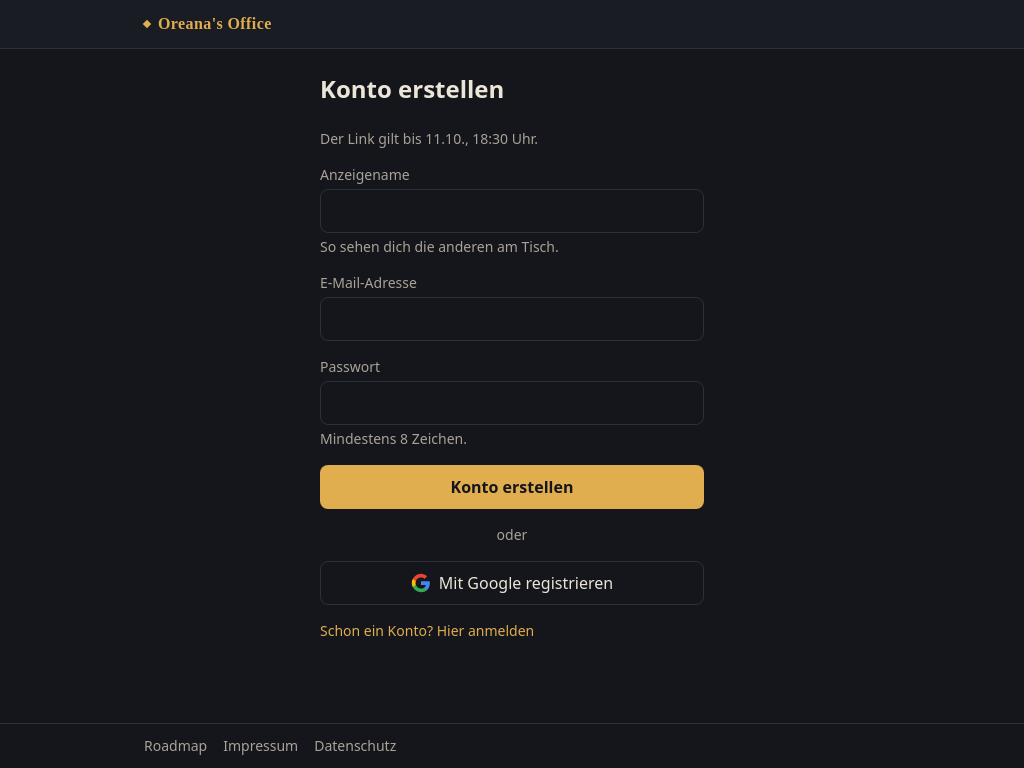
Test: InvitePage › shows the server error when the link expires while filling in
The image size is (1024, 768).
Type "Mira" into the field labelled "Anzeigename". click: point(512, 211)
box: 320,189 -> 704,233
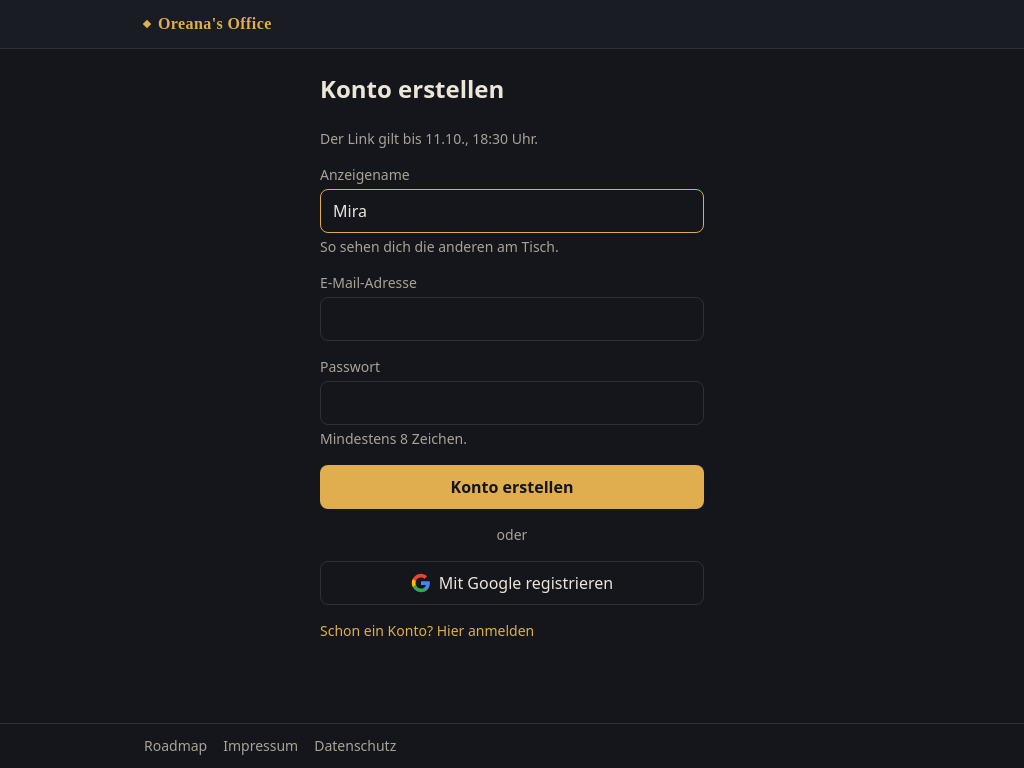
Type "mira@example.org" into the field labelled "E-Mail-Adresse". click: point(512, 319)
box: 320,297 -> 704,341
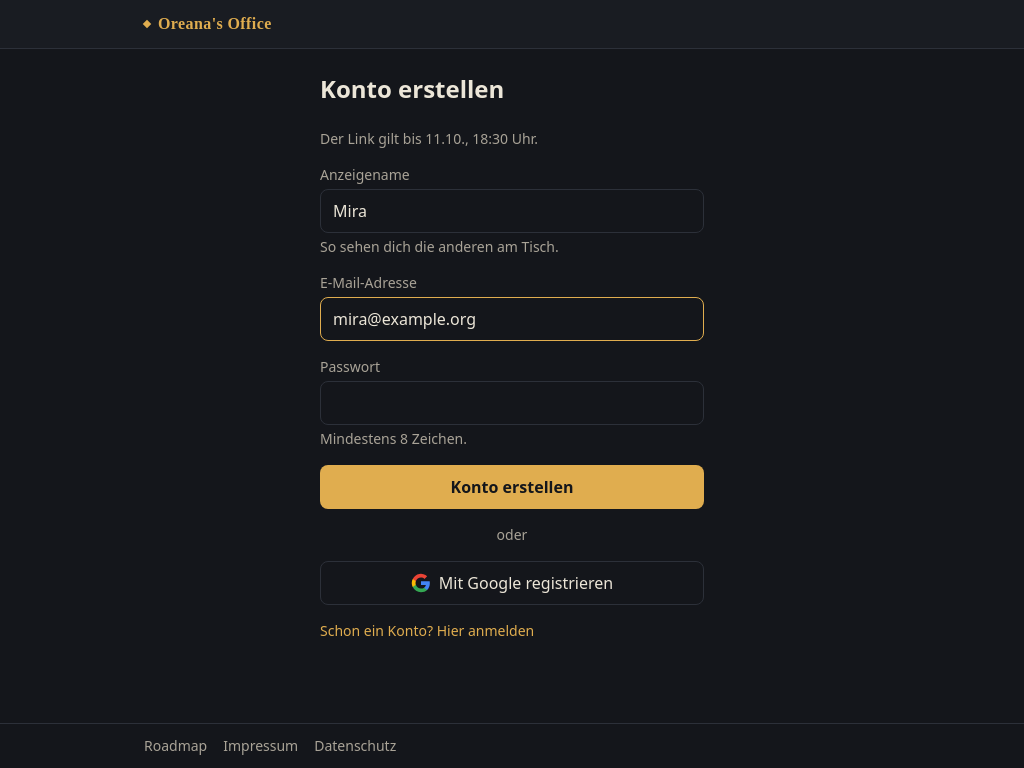
Type "geheim123" into the password field labelled "Passwort". click: point(512, 403)
box: 320,381 -> 704,425
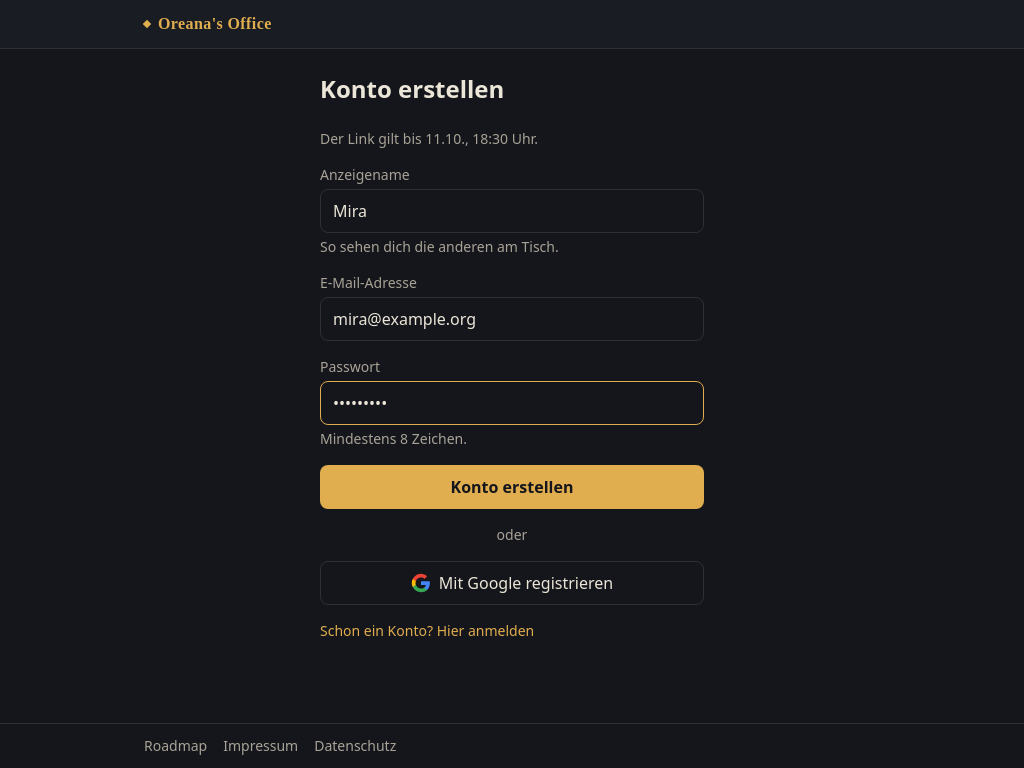
Click the button "Konto erstellen". click: point(512, 487)
box: 320,465 -> 704,509
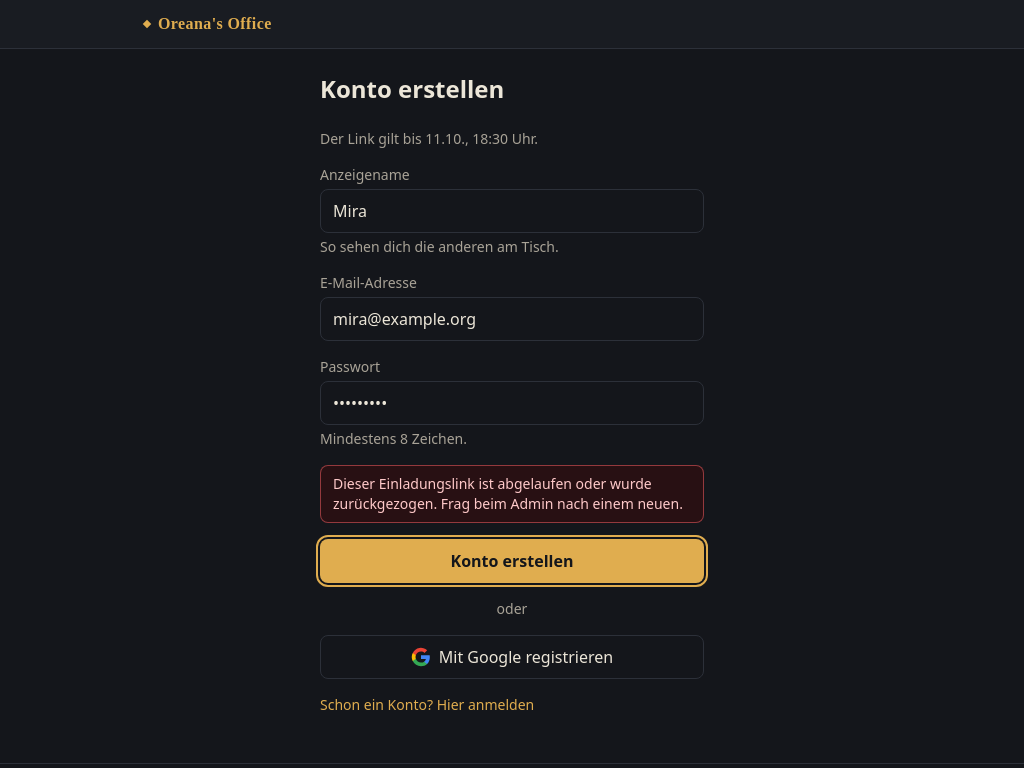
Result: the message shows "Dieser Einladungslink ist abgelaufen oder wurde zurückgezogen. Frag beim Admin nach einem neuen." at 333,474 -> 683,513
